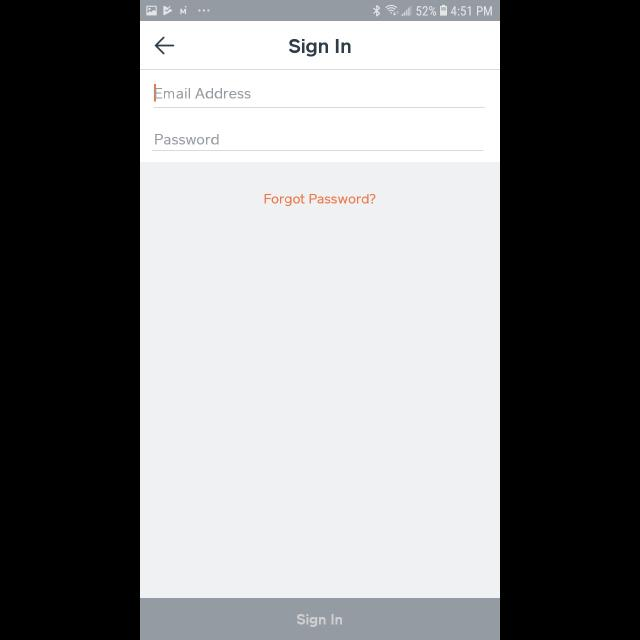icon: (155, 37, 175, 55)
input: (154, 84, 486, 108), (152, 134, 484, 152)
text: (264, 194, 376, 206), (156, 88, 250, 100), (289, 39, 351, 57), (155, 134, 219, 146)
textbutton: (140, 598, 500, 640)
uppertaskbar: (140, 1, 500, 22)
